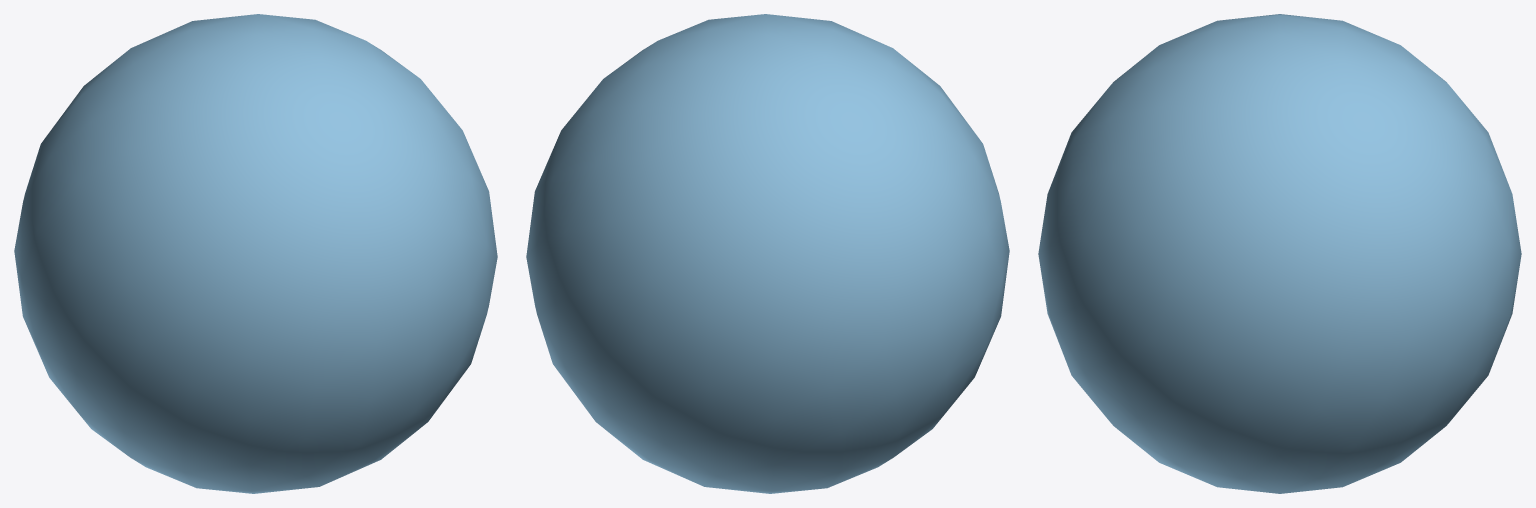
The model's file is skull_neanderthal.glb.
The picture shows the model from 3 angles, left to right: view 1: azimuth 30°, elevation 25°; view 2: azimuth 150°, elevation 25°; view 3: azimuth 270°, elevation 25°; orthographic projection.
Size of the model in its own units: 2 by 2 by 2.
